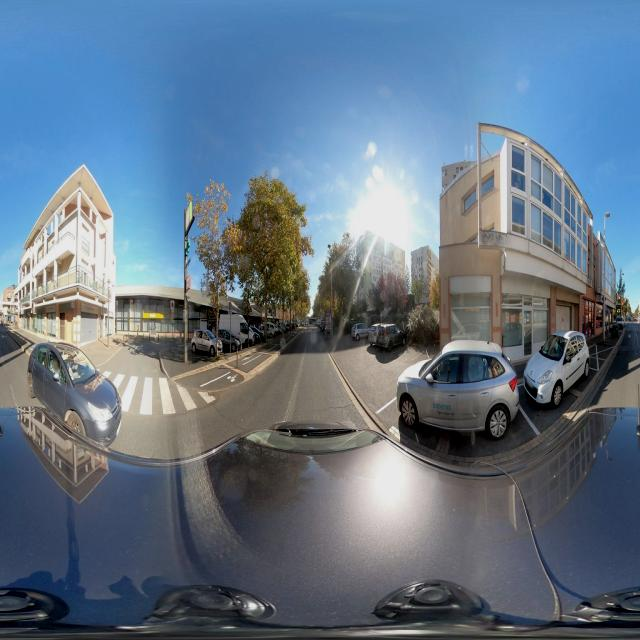car: (396, 340, 520, 441), (26, 342, 122, 438), (523, 329, 590, 408), (192, 328, 220, 358), (378, 322, 400, 352), (218, 329, 240, 353), (367, 324, 382, 351), (351, 321, 370, 341), (248, 324, 259, 344), (608, 320, 620, 338)
